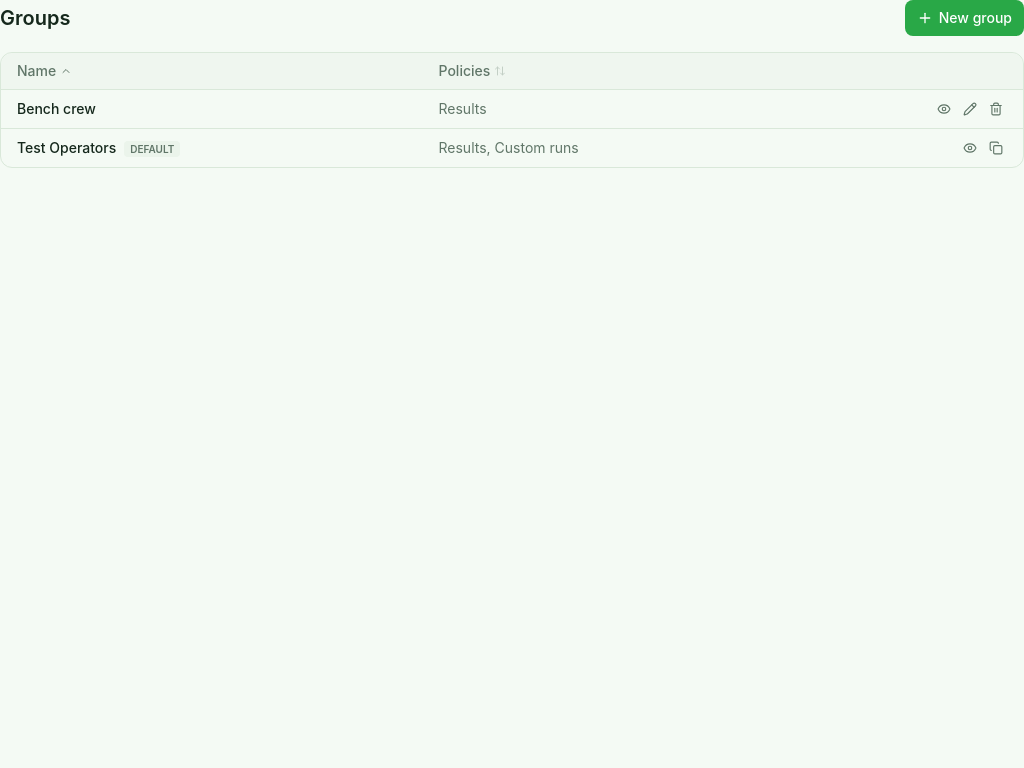
Test: Groups › deletes through the confirmation dialog and shows a failure
The image size is (1024, 768).
expect the text "Bench crew" is shown: met, box left=1, top=90, right=422, bottom=128
Click the button named "Delete Bench crew".
click(996, 109)  # box left=985, top=98, right=1007, bottom=120
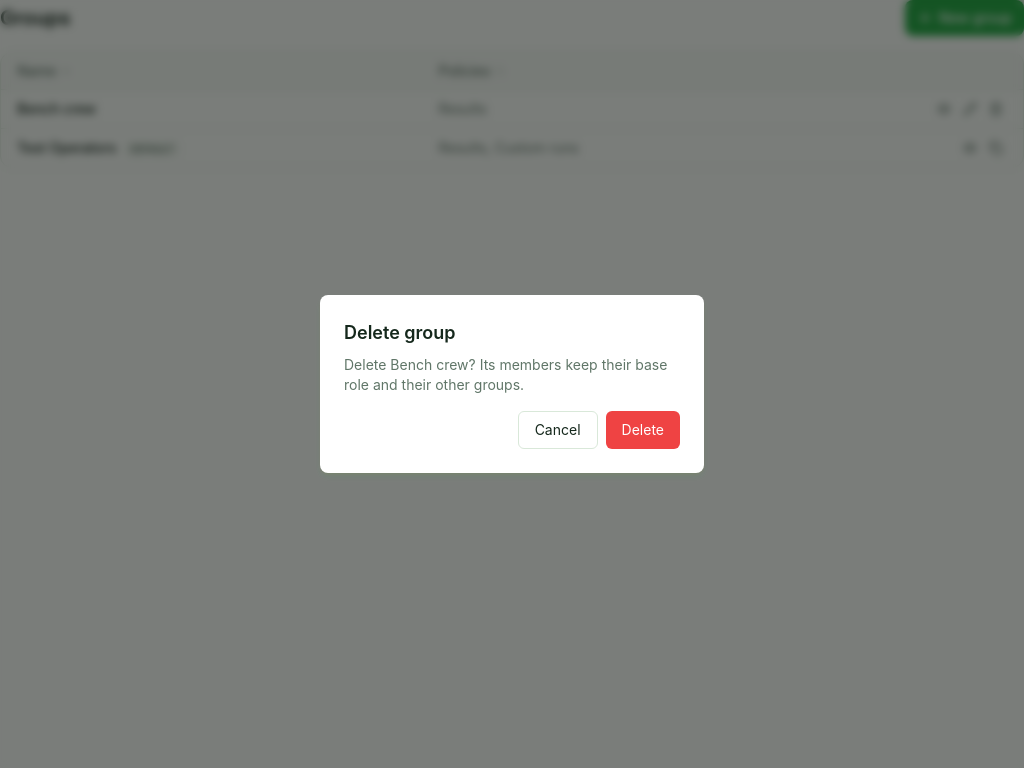
Click the button "Cancel".
click(558, 430)  # box left=518, top=411, right=598, bottom=449
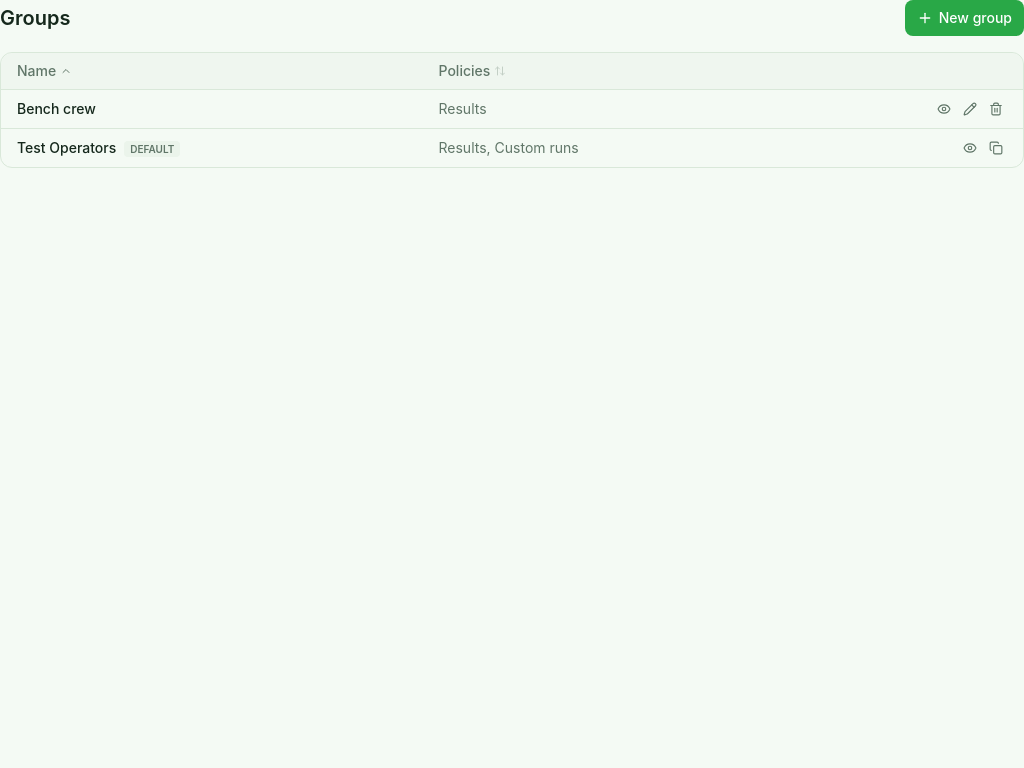
Click the button named "Delete Bench crew".
click(996, 109)  # box left=985, top=98, right=1007, bottom=120
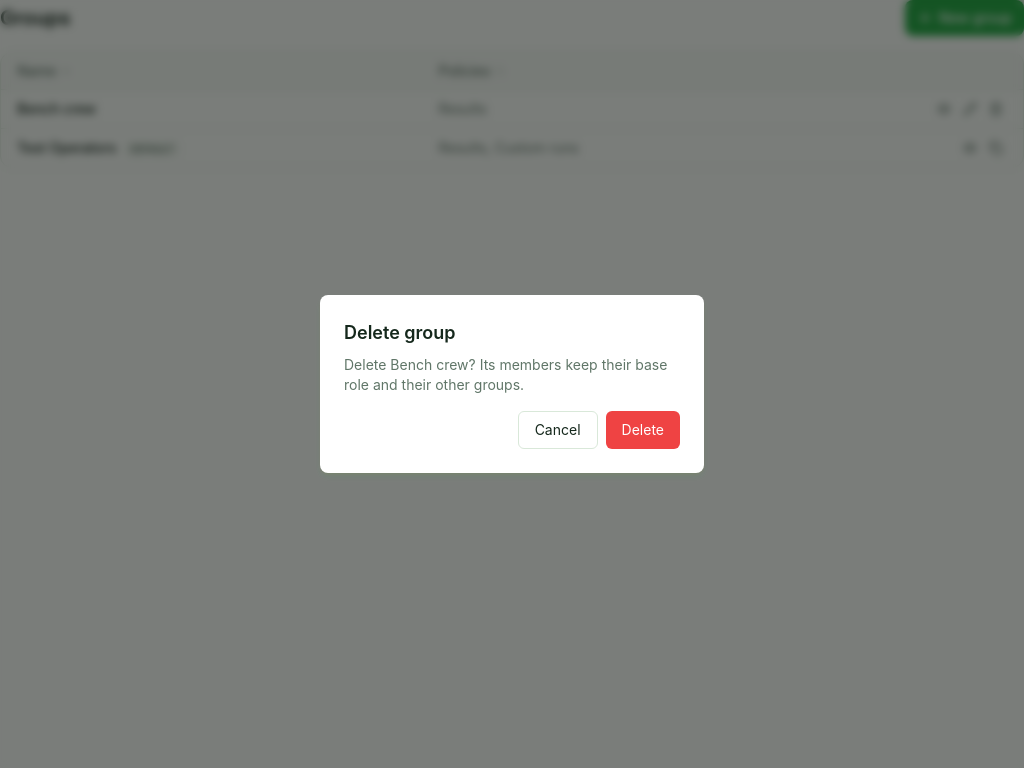
Click the button "Delete".
click(643, 430)  # box left=606, top=411, right=680, bottom=449
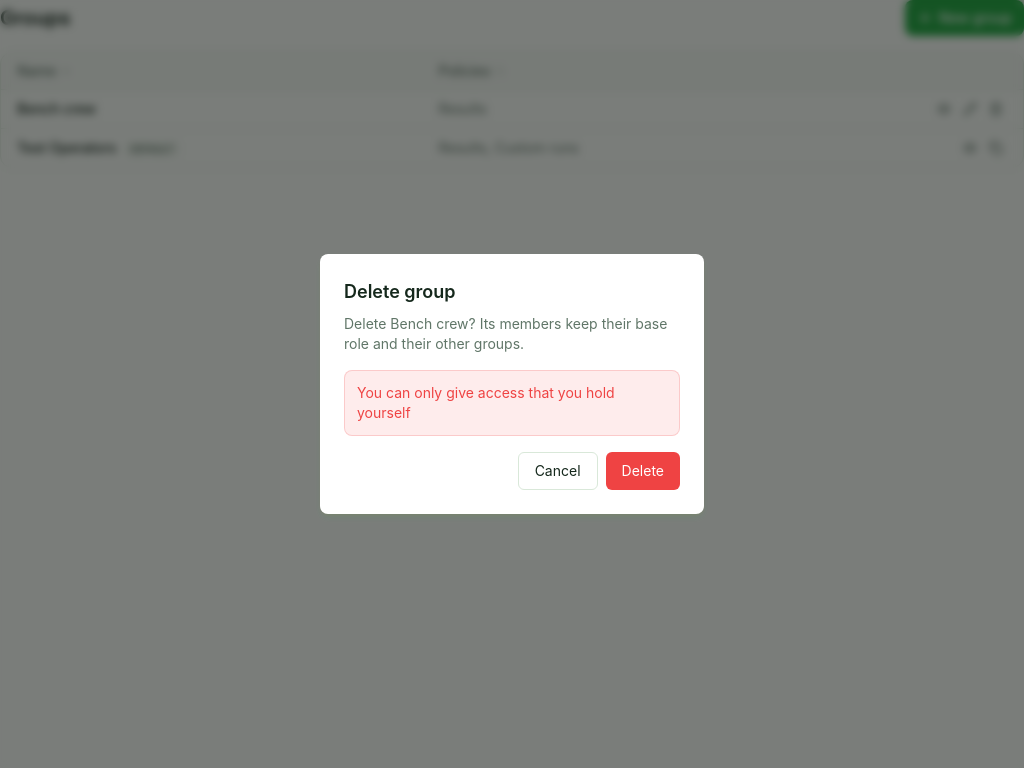
expect the text "You can only give access that you hold yourself" is shown: met, box left=344, top=370, right=680, bottom=436
